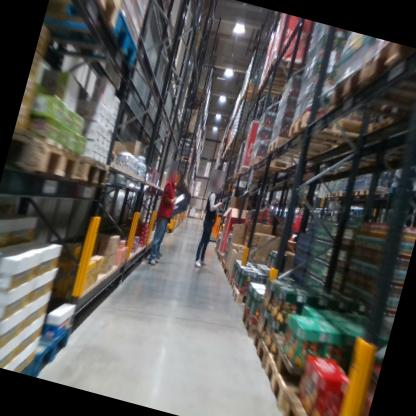pallet: (35, 0, 155, 82), (322, 48, 416, 134), (283, 103, 380, 163), (259, 327, 339, 394), (249, 346, 322, 416), (22, 305, 82, 384), (1, 109, 51, 188), (43, 0, 125, 41), (356, 36, 416, 89), (261, 129, 332, 171), (36, 132, 86, 190), (280, 388, 360, 416), (71, 147, 116, 195), (265, 45, 315, 86), (243, 150, 302, 183), (242, 323, 274, 371), (235, 305, 262, 343), (252, 77, 292, 101), (228, 284, 263, 311), (258, 69, 290, 91), (356, 181, 388, 202), (18, 354, 36, 376), (227, 276, 237, 294), (320, 190, 334, 202), (349, 186, 360, 201), (224, 268, 234, 284), (329, 187, 341, 198), (339, 185, 349, 198), (219, 257, 227, 271), (216, 252, 226, 263), (223, 264, 230, 274), (214, 248, 221, 257)
pallet_truck: (199, 190, 234, 243)
